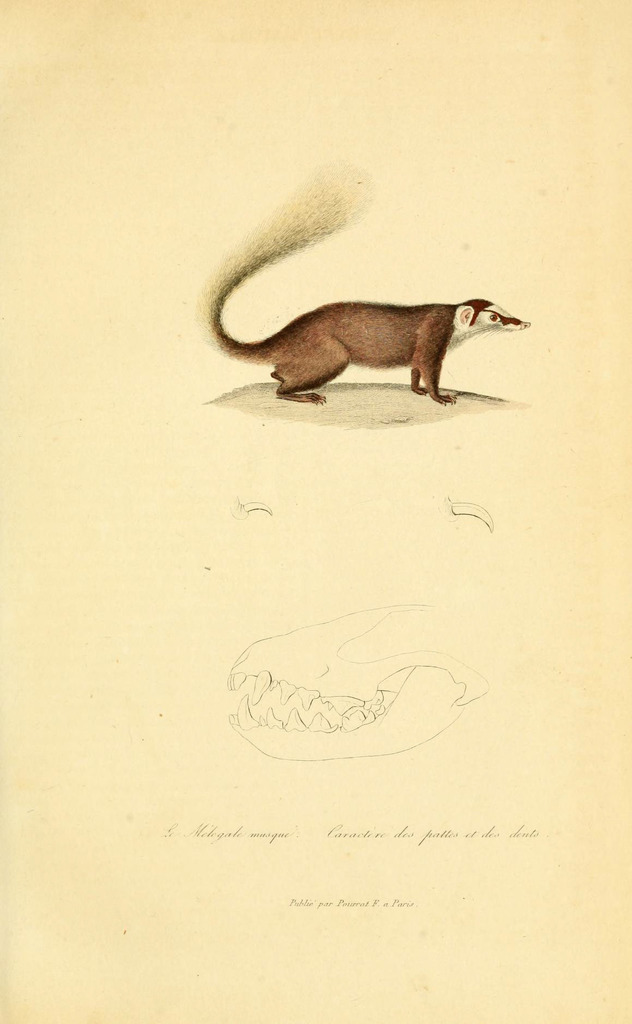Animal: (200, 189, 529, 408)
